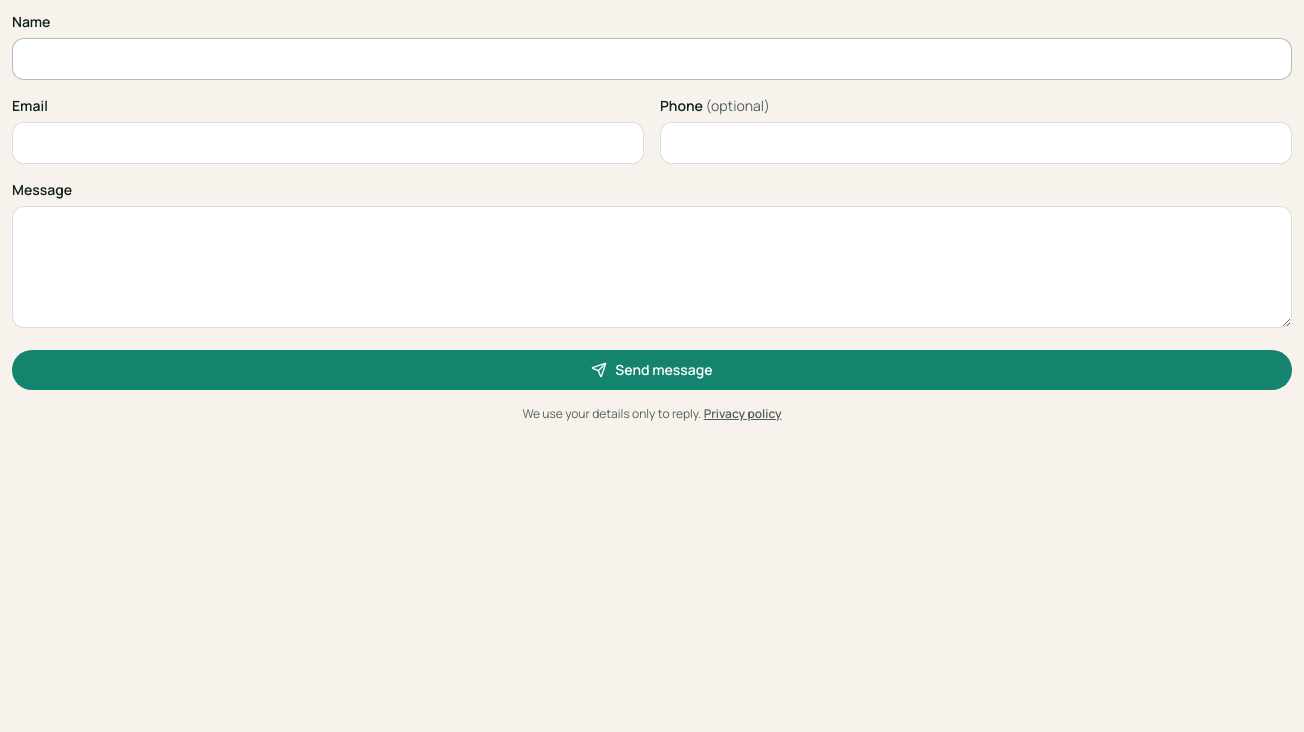
Test: InquiryForm › shows the server error and the fields it names
Type "Priya Raman" into the field labelled "Name" at [652, 59], box [12, 38, 1292, 80]
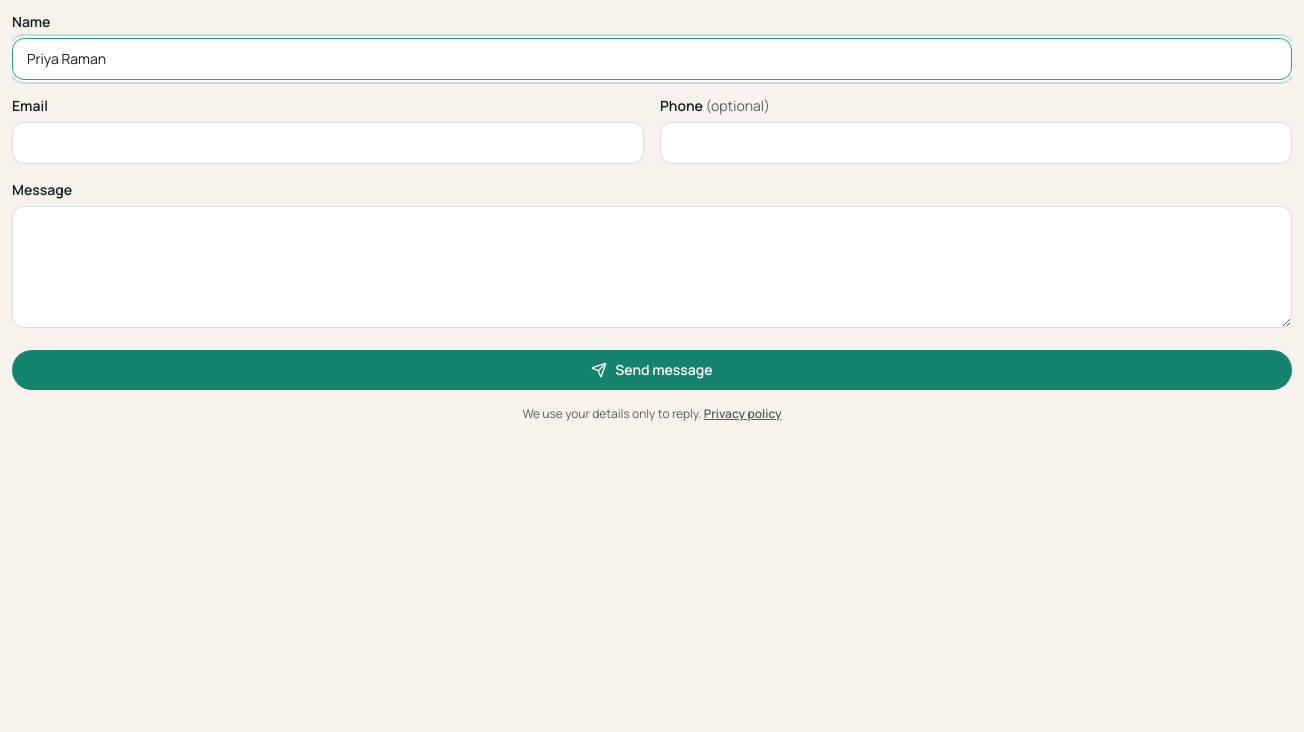
Type "priya@example.com" into the field labelled "Email" at [328, 143], box [12, 122, 644, 164]
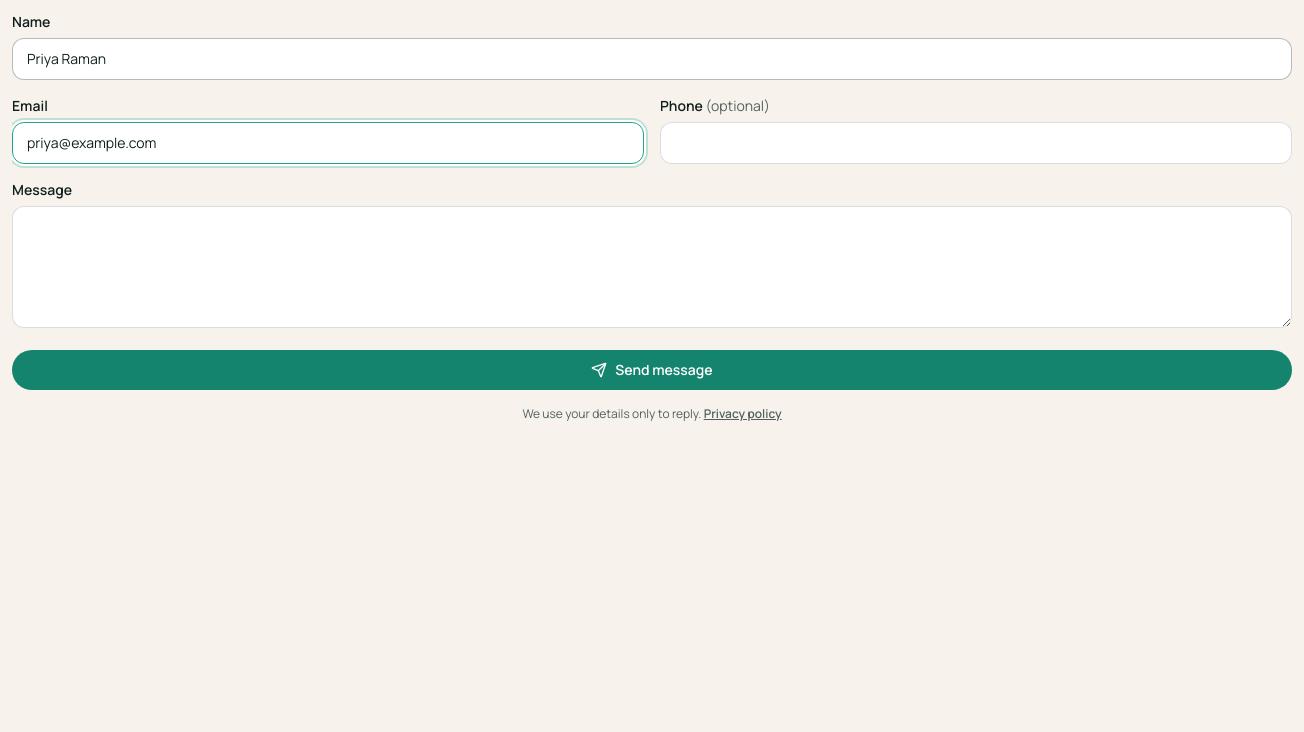
Type "Could I view it on Saturday?" into the text box labelled "Message" at [652, 267], box [12, 206, 1292, 328]
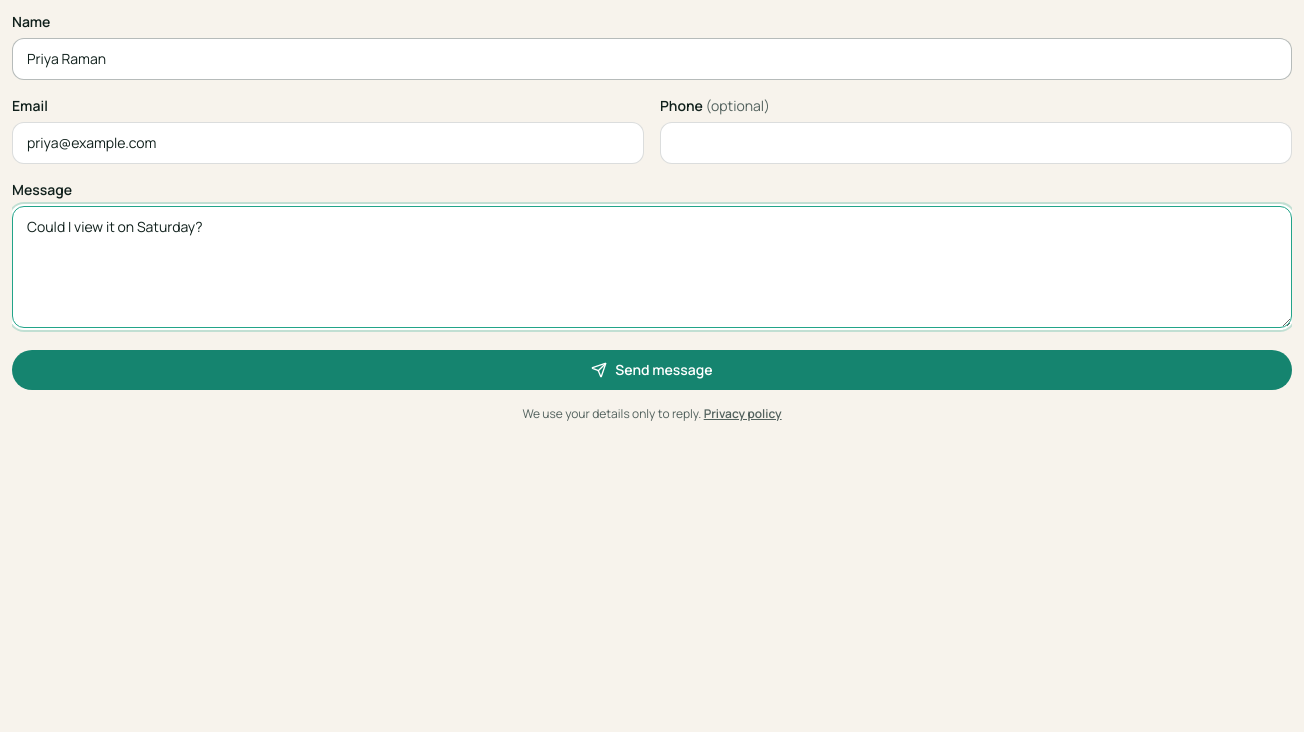
Click the button "Send message" at [652, 370], box [12, 350, 1292, 390]
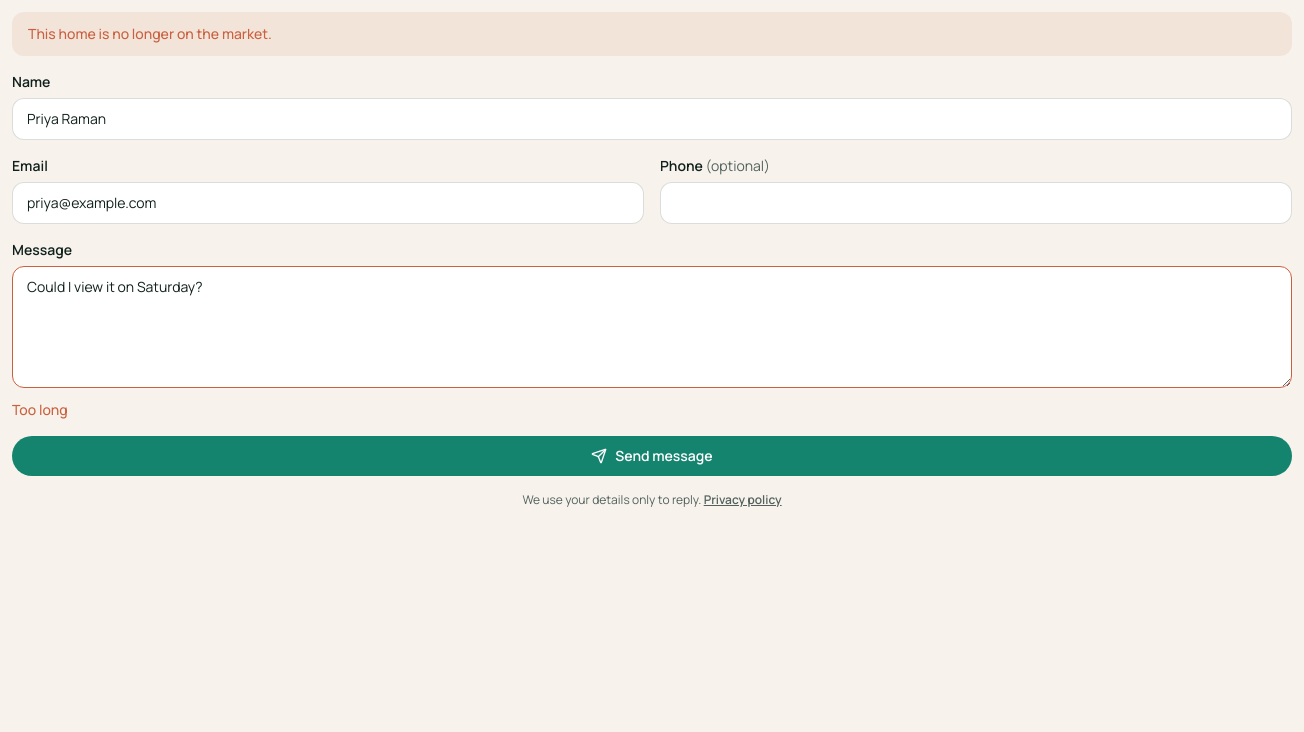
Expected: the message reads "This home is no longer on the market.", [28, 24, 272, 43]
Expected: the text "Too long" is shown, [12, 400, 68, 419]
